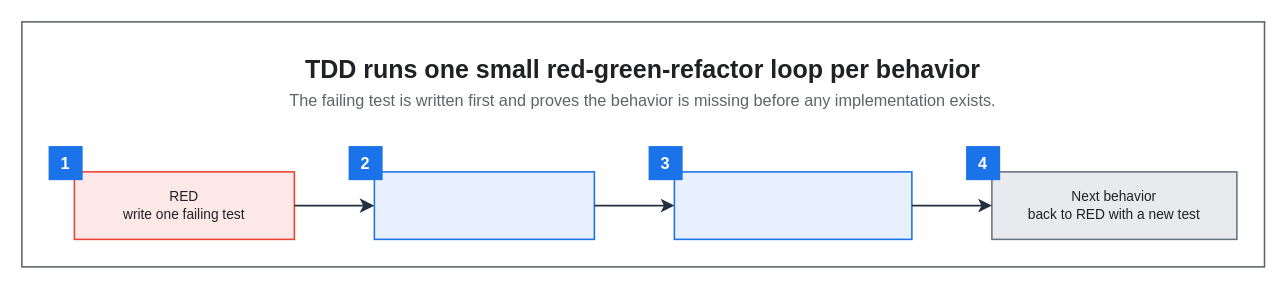
Some shapes in this 1288 by 290 pixel diagram are drawn without their labels. Here are the shapes that lost their labels. From the top down, the centre of each, then its label:
At point 484,205: "GREEN smallest implementation".
At point 792,205: "REFACTOR clean up, tests stay green".
